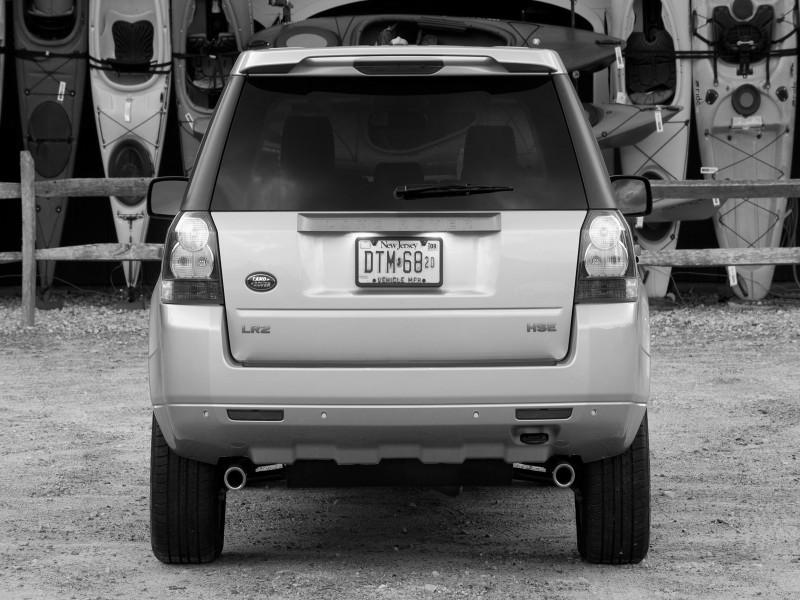car: (135, 43, 663, 571)
